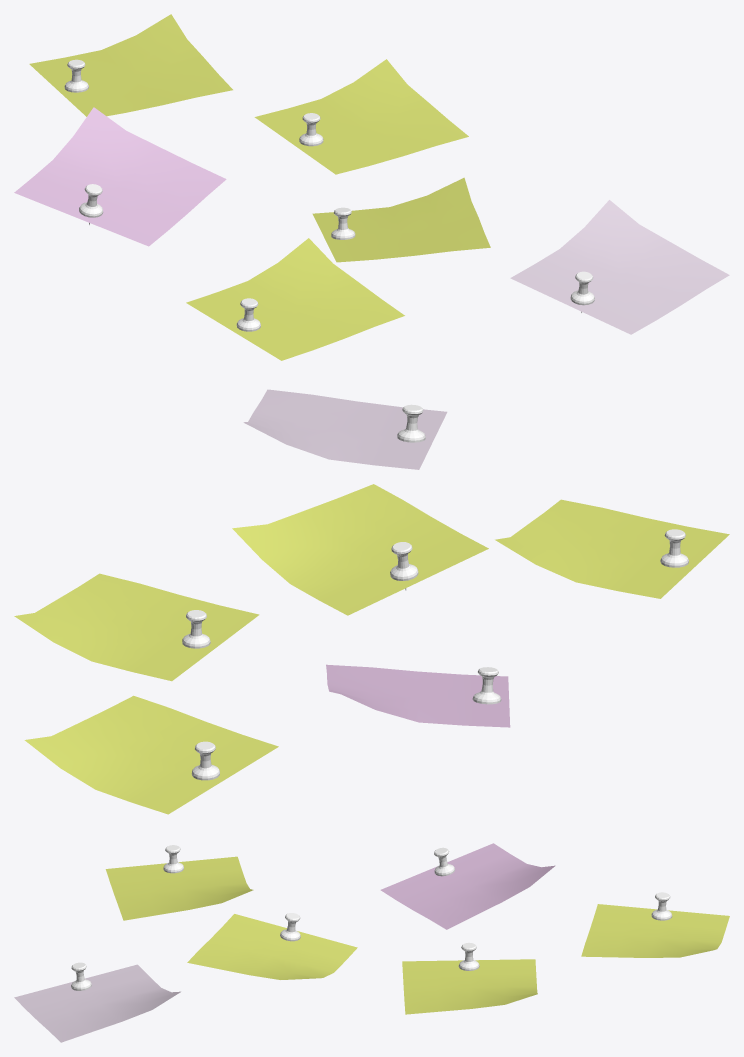
The model's file is asset.glb.
The picture shows the model from 3 angles, top to bottom: view 1: azimuth 30°, elevation 25°; view 2: azimuth 150°, elevation 25°; view 3: azimuth 270°, elevation 25°; orthographic projection. The views are drawn at different scales.
Parts seen in each view (by area): view 1: Plane.001, Plane.004, Plane.005, Plane.002, Plane.003, Plane; view 2: Plane, Plane.003, Plane.002, Plane.005, Plane.004, Plane.001; view 3: Plane.001, Plane, Plane.004, Plane.005, Plane.002, Plane.003.
Part boxes in pixels (x1,y1,x2,y2): Plane.001: (14, 107, 226, 246); Plane.004: (510, 200, 729, 334); Plane.005: (186, 238, 404, 360); Plane.002: (254, 59, 468, 174); Plane.003: (29, 14, 232, 116); Plane: (312, 177, 490, 262); Plane: (232, 484, 488, 615); Plane.003: (24, 695, 278, 814); Plane.002: (14, 573, 259, 681); Plane.005: (495, 499, 729, 598); Plane.004: (243, 389, 447, 469); Plane.001: (326, 664, 510, 727); Plane.001: (380, 843, 555, 929); Plane: (187, 913, 357, 979); Plane.004: (14, 962, 180, 1042); Plane.005: (105, 845, 253, 920); Plane.002: (402, 942, 537, 1014); Plane.003: (581, 892, 729, 957).
Size of the model in its own units: 6.81 by 0.7689 by 10.74.
